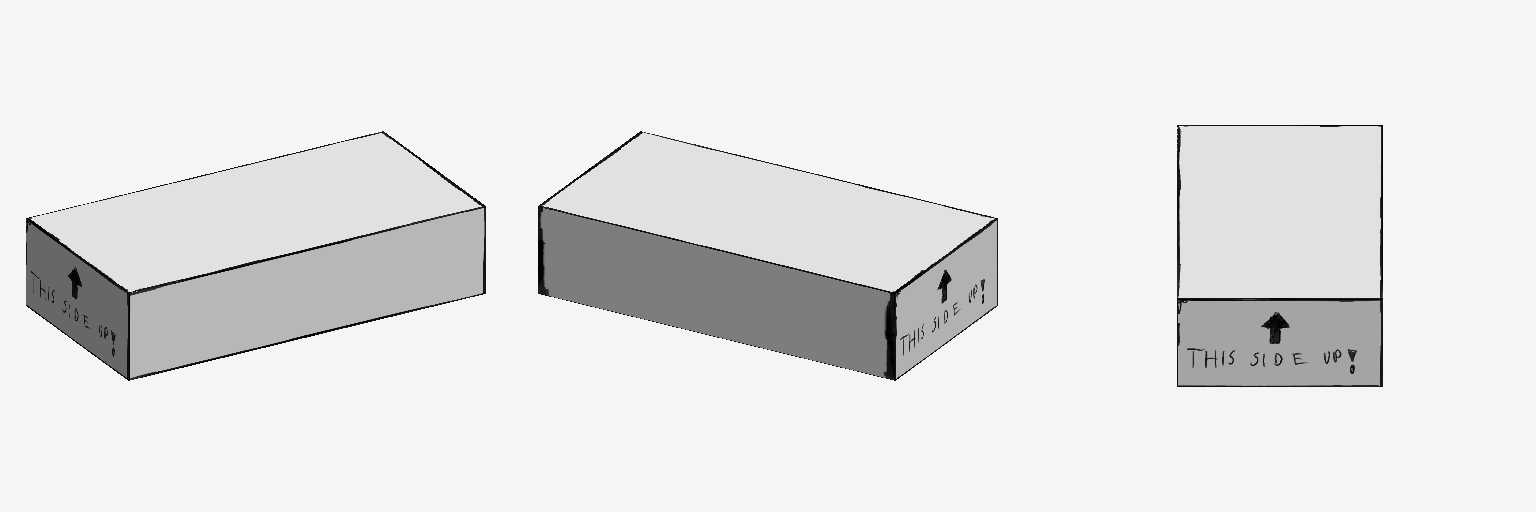
3 renders of one model, left to right at view 1: azimuth 30°, elevation 25°; view 2: azimuth 150°, elevation 25°; view 3: azimuth 270°, elevation 25°, orthographic.
Parts seen in each view (by area): view 1: Cube_Cube.001; view 2: Cube_Cube.001; view 3: Cube_Cube.001.
Boxes of the visible parts, x1=… form: Cube_Cube.001: x1=26, y1=131, x2=485, y2=380; Cube_Cube.001: x1=538, y1=131, x2=997, y2=380; Cube_Cube.001: x1=1177, y1=125, x2=1382, y2=386.
Bounding box in the file's own units: 4.02 × 0.9398 × 2.
Materials: 1 (1 with a texture image).